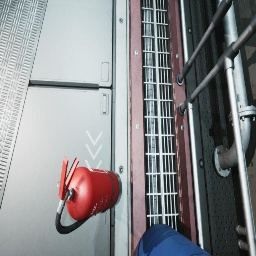FireExtinguisher ]: (55, 156, 122, 234)
